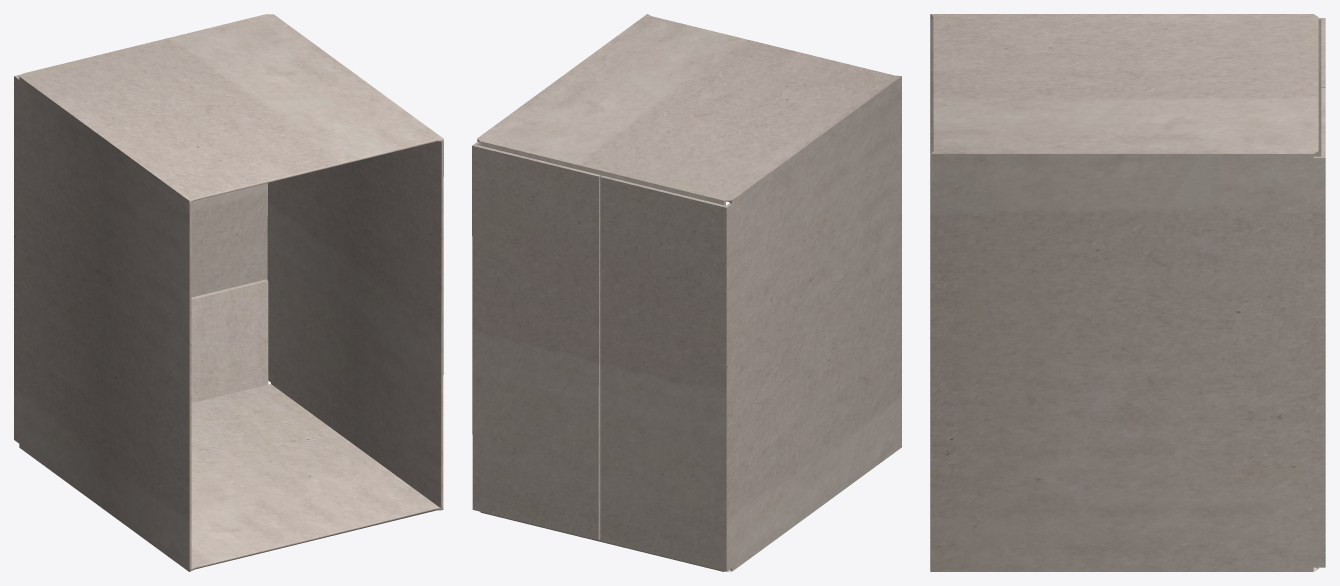
File: MeshBox_12_0.obj
The picture shows the model from 3 angles, left to right: view 1: azimuth 30°, elevation 25°; view 2: azimuth 150°, elevation 25°; view 3: azimuth 270°, elevation 25°; orthographic projection. The views are drawn at different scales.
Visible parts, largest first — view 1: Box_12; view 2: Box_12; view 3: Box_12.
Boxes of the visible parts, x1,y1,x2,y2 form: Box_12: [14, 14, 443, 571]; Box_12: [472, 14, 901, 571]; Box_12: [930, 14, 1325, 571].
Size of the model in its own units: 0.2261 by 0.3149 by 0.2699.
